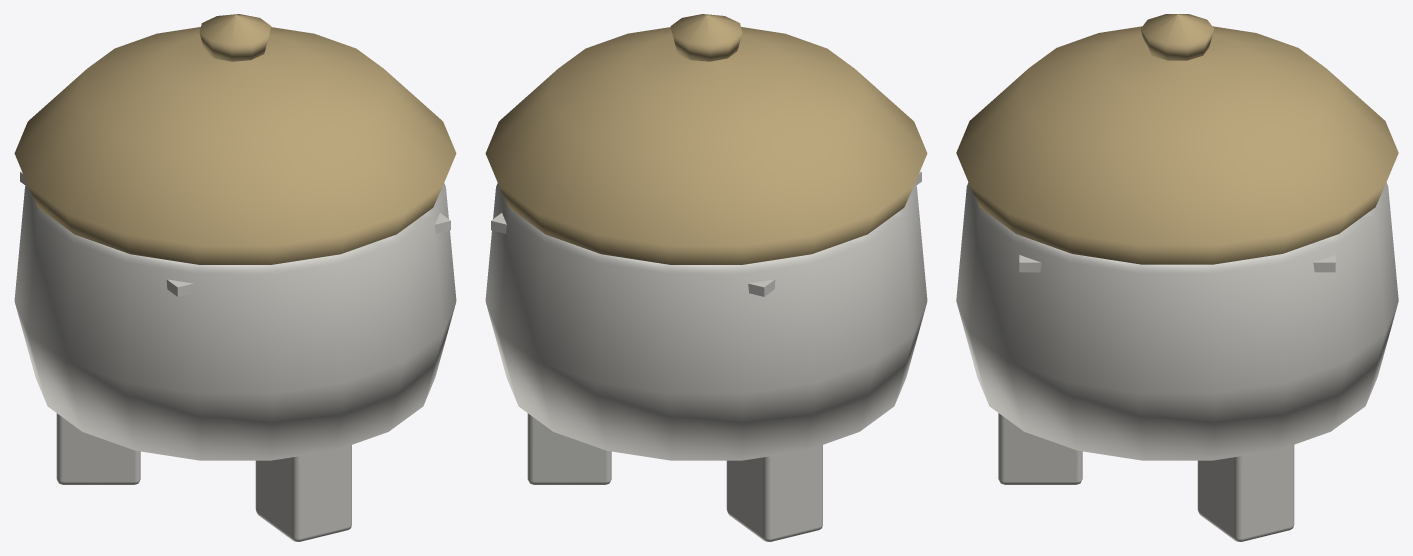
The model's file is incense-burner.glb.
3 renders of one model, left to right at view 1: azimuth 30°, elevation 25°; view 2: azimuth 150°, elevation 25°; view 3: azimuth 270°, elevation 25°, orthographic.
Visible parts, largest first — view 1: stone-incense-burner, lid; view 2: stone-incense-burner, lid; view 3: stone-incense-burner, lid.
Part boxes in pixels (left/top/right/bottom): stone-incense-burner: left=14, top=171, right=456, bottom=541; lid: left=14, top=14, right=456, bottom=264; stone-incense-burner: left=485, top=171, right=927, bottom=541; lid: left=485, top=14, right=927, bottom=264; stone-incense-burner: left=956, top=182, right=1398, bottom=541; lid: left=956, top=14, right=1398, bottom=264.
Bounding box in the file's own units: 0.8273 × 0.96 × 0.84.
